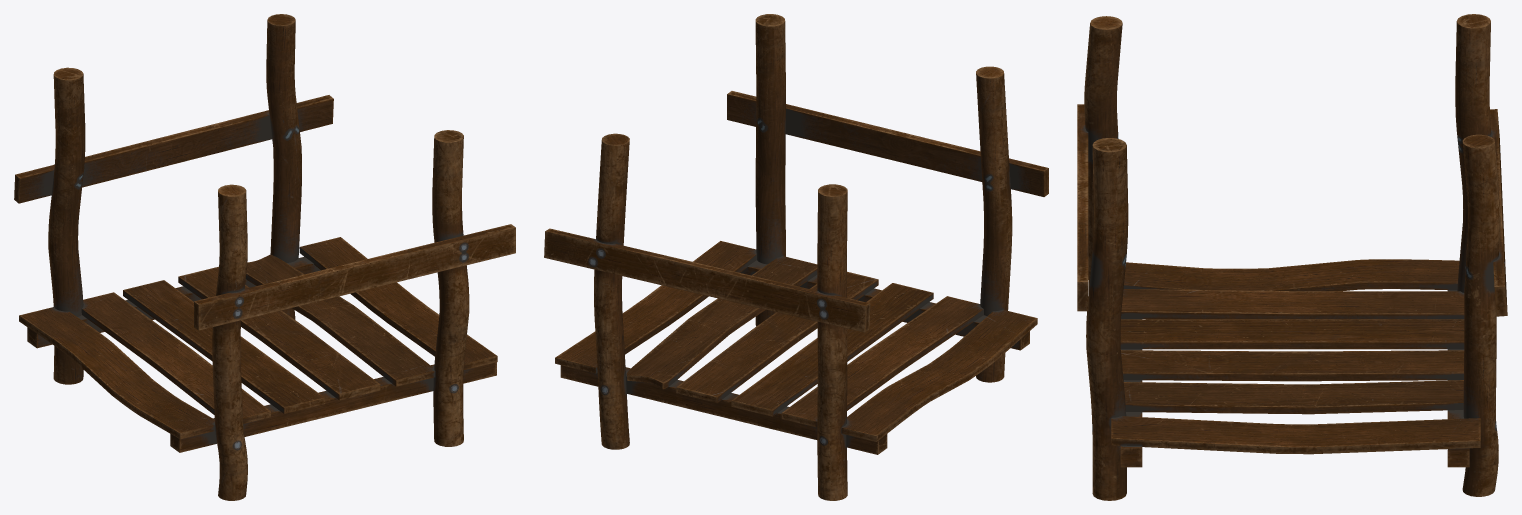
File: WoodenPier_3.fbx
The picture shows the model from 3 angles, left to right: view 1: azimuth 30°, elevation 25°; view 2: azimuth 150°, elevation 25°; view 3: azimuth 270°, elevation 25°; orthographic projection. The views are drawn at different scales.
Parts seen in each view (by area): view 1: Pier_03; view 2: Pier_03; view 3: Pier_03.
Part boxes in pixels (left/top/right/bottom): Pier_03: left=14, top=14, right=515, bottom=500; Pier_03: left=544, top=14, right=1048, bottom=500; Pier_03: left=1077, top=14, right=1507, bottom=500.
Bounding box in the file's own units: 196 × 177 × 198.
1 material, 1 textured.
